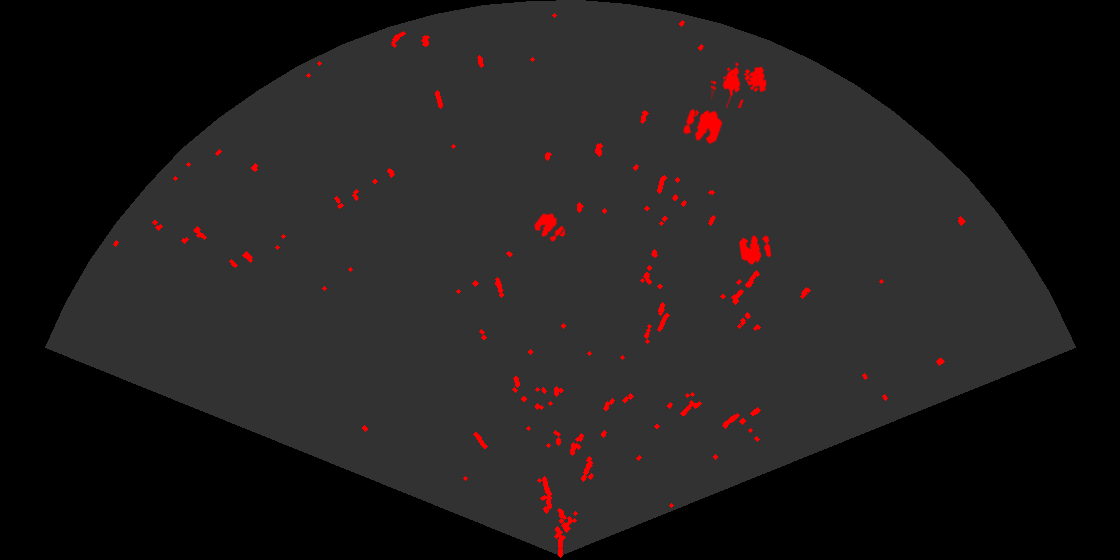ball: (681, 107, 724, 146), (738, 234, 773, 266), (532, 212, 565, 243)
cage: (711, 61, 768, 108)
